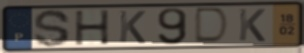9: (155, 6, 189, 46)
D: (192, 6, 232, 45)
H: (73, 9, 112, 47)
K: (117, 9, 148, 45), (237, 7, 267, 43)
S: (32, 8, 73, 48)
